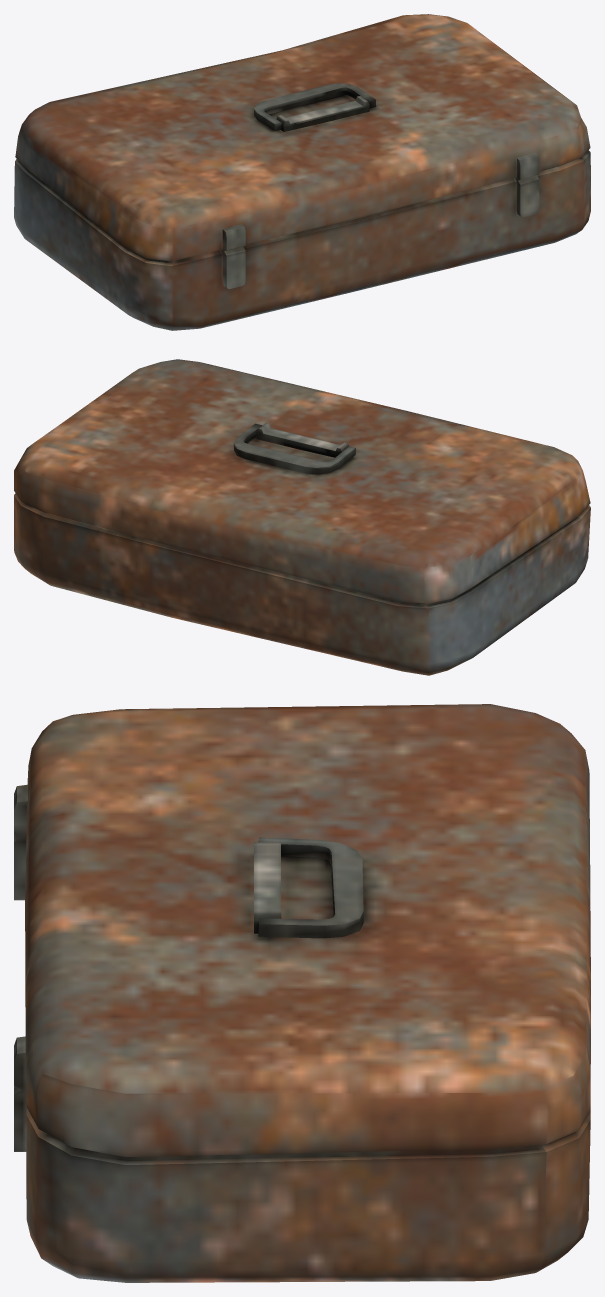
The model's file is MetalBox_T03.FBX.
3 views of the same model, one above another, from view 1: azimuth 30°, elevation 25°; view 2: azimuth 150°, elevation 25°; view 3: azimuth 270°, elevation 25° (orthographic). The views are drawn at different scales.
Visible parts, largest first — view 1: MetalBox_T03; view 2: MetalBox_T03; view 3: MetalBox_T03.
Part boxes in pixels (x1,y1,x2,y2): MetalBox_T03: [14, 14, 590, 330]; MetalBox_T03: [14, 359, 590, 675]; MetalBox_T03: [14, 704, 590, 1282].
Bounding box in the file's own units: 53.83 × 14.83 × 33.55.
